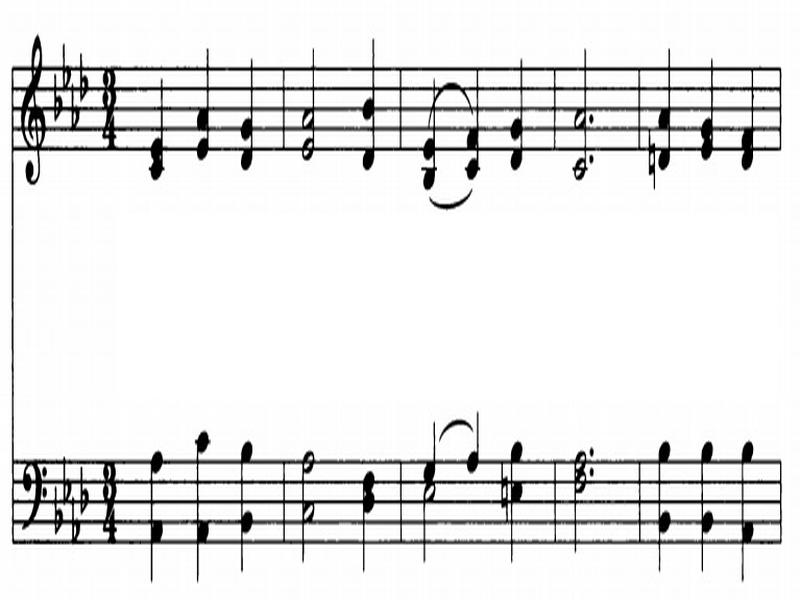B: (277, 42, 332, 171), (282, 436, 325, 579), (566, 44, 591, 180), (564, 442, 586, 560), (417, 485, 446, 573)
Bem: (67, 88, 89, 153), (55, 454, 73, 502), (44, 492, 63, 535), (77, 457, 90, 519), (57, 48, 77, 85), (47, 83, 69, 114), (76, 54, 90, 101), (67, 500, 79, 543)
CF: (17, 451, 47, 543)
CS: (20, 20, 49, 197)
N: (732, 29, 776, 176), (355, 24, 394, 181), (184, 34, 223, 184), (727, 434, 765, 585), (644, 434, 683, 574), (339, 463, 388, 574), (657, 18, 688, 171), (458, 43, 491, 178), (188, 411, 215, 574), (505, 31, 535, 172), (230, 44, 262, 170), (689, 437, 717, 580), (132, 74, 169, 182), (237, 434, 259, 584), (408, 408, 450, 483), (143, 445, 166, 578), (700, 51, 726, 159), (423, 78, 443, 182), (510, 434, 526, 563), (463, 395, 486, 475)
P: (584, 442, 605, 460), (587, 149, 599, 165), (582, 113, 595, 126), (586, 466, 598, 478)
SOS: (495, 463, 509, 522)
